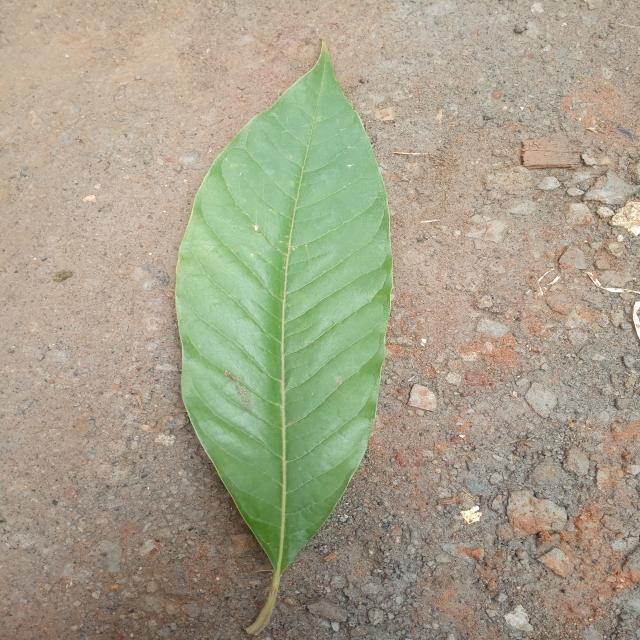coffee: (177, 46, 392, 634)
